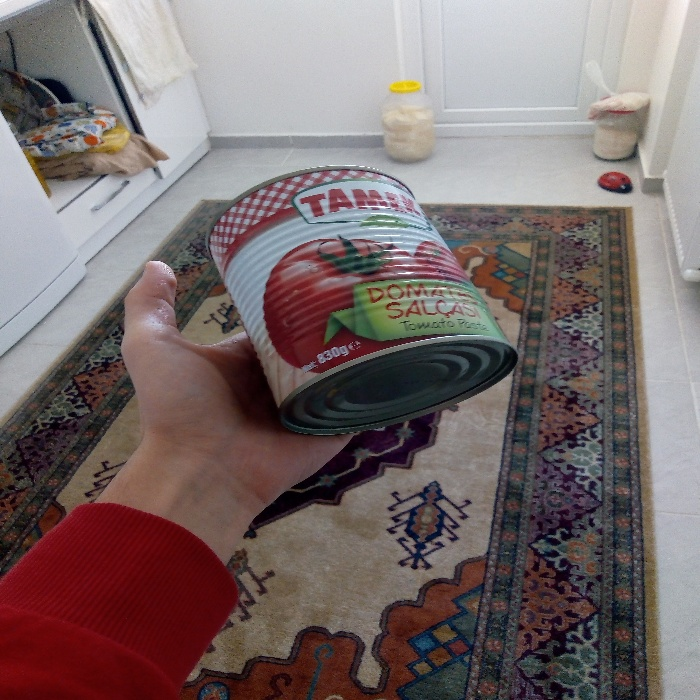salca: (180, 145, 532, 435)
